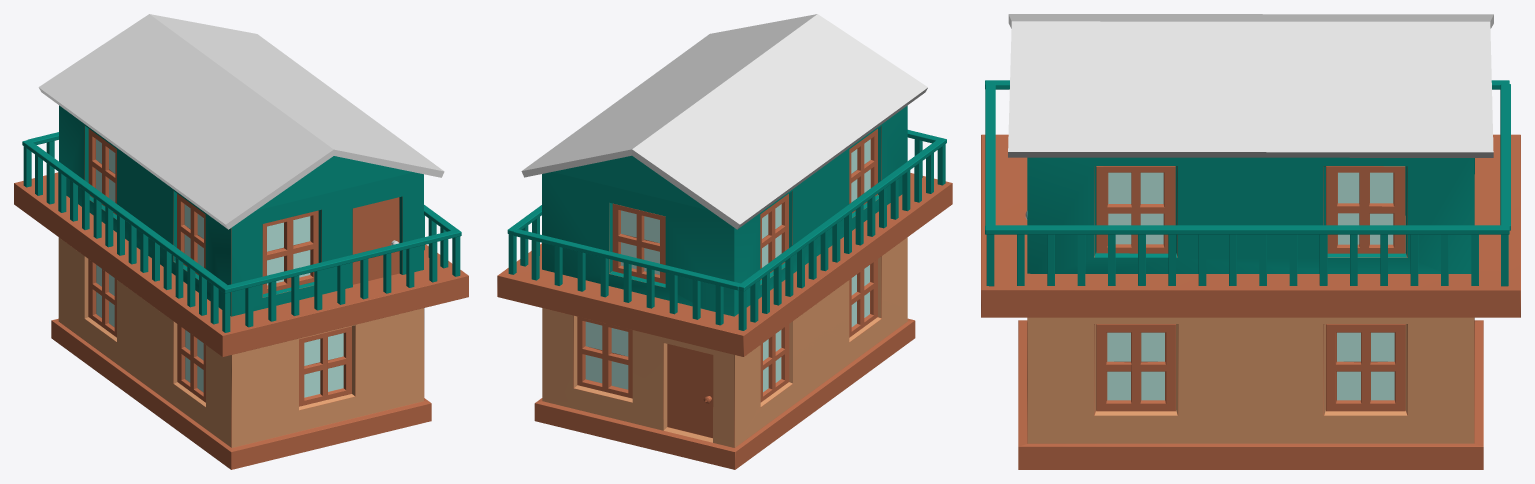
Rendered from casa_uvs.fbx.
3 views of the same model, side by side, from view 1: azimuth 30°, elevation 25°; view 2: azimuth 150°, elevation 25°; view 3: azimuth 270°, elevation 25° (orthographic). The views are drawn at different scales.
Visible parts, largest first — view 1: CasaTradicional.001; view 2: CasaTradicional.001; view 3: CasaTradicional.001.
Boxes of the visible parts, left/top/right/bottom form: CasaTradicional.001: left=14, top=14, right=468, bottom=469; CasaTradicional.001: left=497, top=14, right=952, bottom=469; CasaTradicional.001: left=981, top=14, right=1520, bottom=469.
Size of the model in its own units: 984 by 1137 by 1444.
